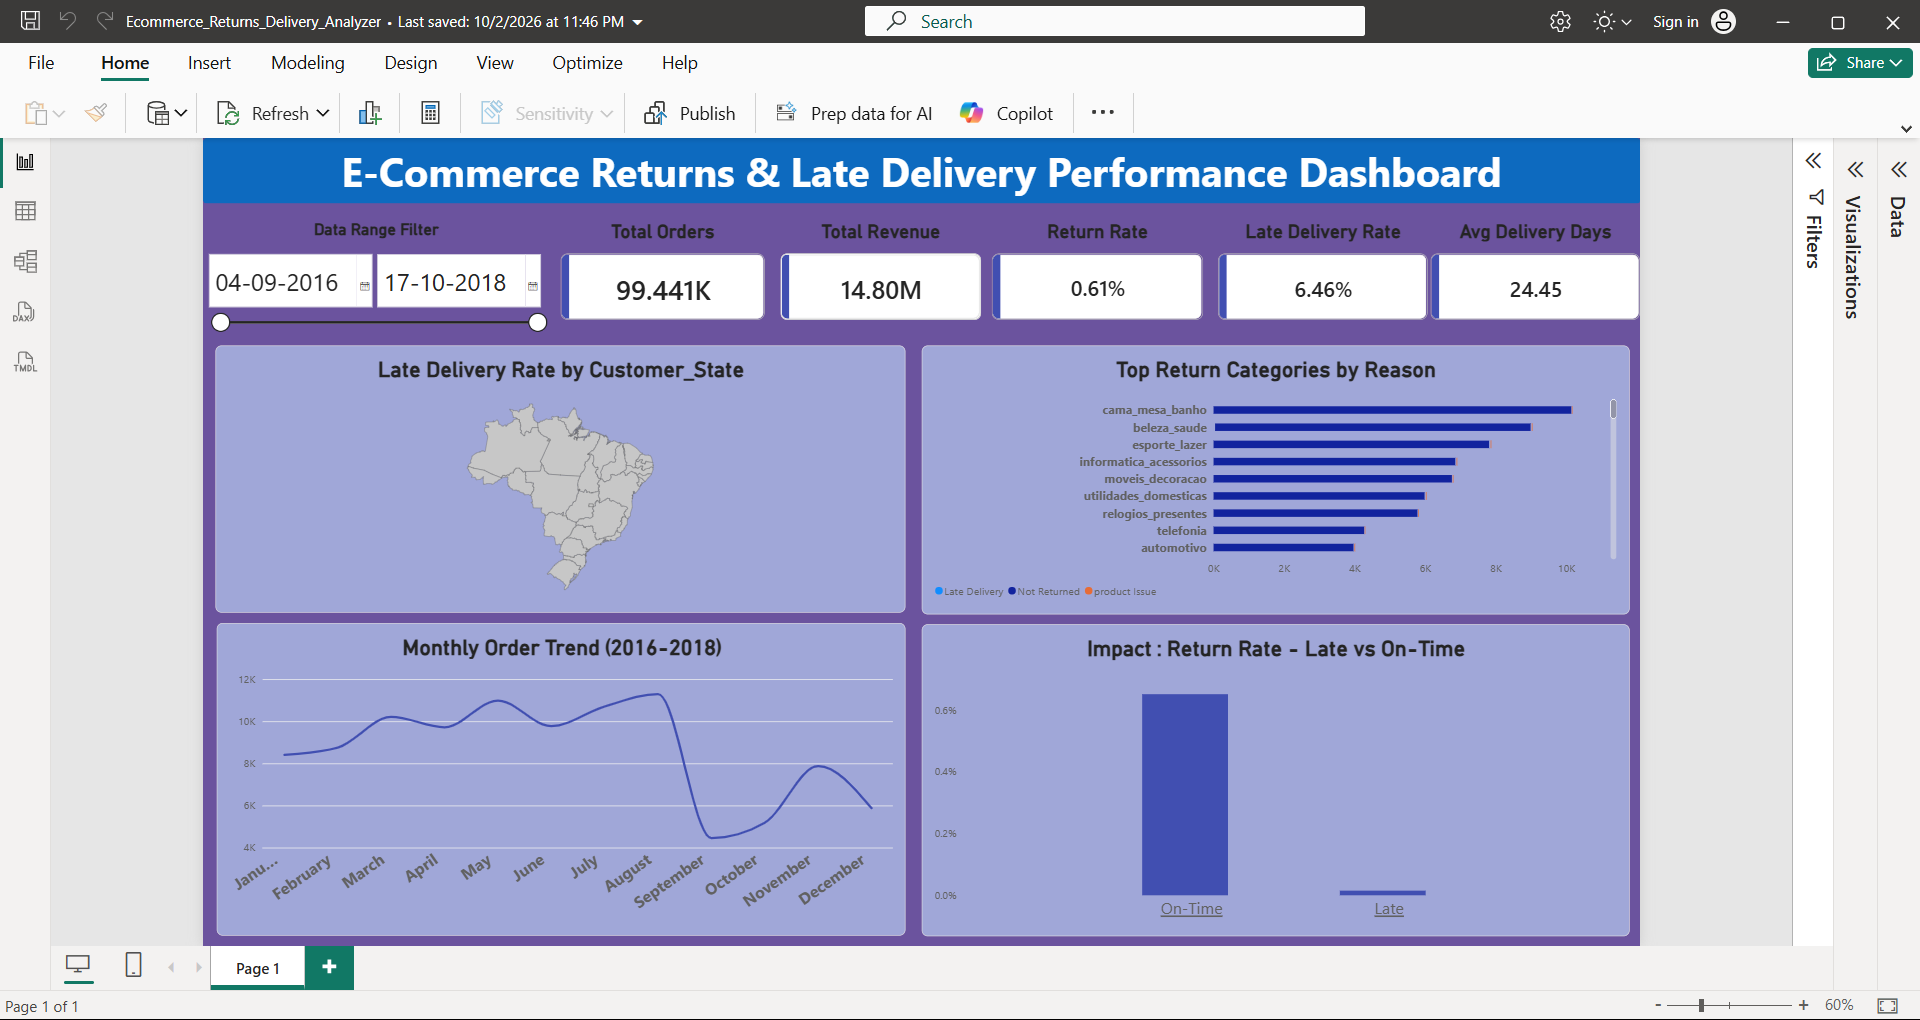

This screenshot's page, from the dashboard's own definition file:
{"tool":"powerbi","page":{"name":"Page 1","canvas":[1920,1080],"ordinal":0},"visuals":[{"type":"cardVisual","fields":{"Data":["CountNonNull(ecommerce_cleaned_final.order_id)"]},"box":[250.5,113.5,212.7,97.4],"z":0},{"type":"clusteredColumnChart","title":"Carrier Late %","fields":{"Category":["ecommerce_cleaned_final.carrier"],"Y":["Avg(ecommerce_cleaned_final.is_late)"]},"box":[14.4,225.4,722.9,387.6],"z":1000},{"type":"clusteredBarChart","title":"Return by Category","fields":{"Category":["ecommerce_cleaned_final.product_category"],"Y":["Sum(ecommerce_cleaned_final.return_flag)"]},"box":[1402.6,225.4,503,387.6],"z":2000},{"type":"clusteredBarChart","title":"Region Performance- Late %","fields":{"Category":["ecommerce_cleaned_final.region"],"Y":["Avg(ecommerce_cleaned_final.is_late)"]},"box":[14.4,629.2,658,402],"z":3000},{"type":"barChart","title":"Return Reason by Product Category","fields":{"Category":["ecommerce_cleaned_final.product_category"],"Series":["ecommerce_cleaned_final.return_reason"],"Y":["Sum(ecommerce_cleaned_final.return_flag)"]},"box":[683.3,627.4,553.5,402],"z":4000},{"type":"cardVisual","fields":{"Data":["ecommerce_cleaned_final.Total Revenue"]},"box":[480.9,111.9,229,97.4],"z":5000},{"type":"cardVisual","fields":{"Data":["ecommerce_cleaned_final.Revenue Lost"]},"box":[1319.1,106.9,227.1,103.5],"z":6000},{"type":"cardVisual","fields":{"Data":["ecommerce_cleaned_final.Late Delivery Rate"]},"box":[738,110.2,302.9,97.4],"z":7000},{"type":"cardVisual","fields":{"Data":["ecommerce_cleaned_final.Return Rate"]},"box":[1053.6,110.2,245.5,100.2],"z":8000},{"type":"cardVisual","fields":{"Data":["Avg(ecommerce_cleaned_final.delivery_delay_days)"]},"box":[1566.2,106.9,339,103.5],"z":9000},{"type":"lineChart","title":"Trend over Time - Late Delivery% (Jan 2017-Jul 2018)","fields":{"Category":["ecommerce_cleaned_final.order_date.Variation.Date Hierarchy.Year","ecommerce_cleaned_final.order_date.Variation.Date Hierarchy.Month"],"Y":["Avg(ecommerce_cleaned_final.is_late)"]},"box":[1256.6,627.4,649,402],"z":10000},{"type":"clusteredColumnChart","title":"Late Delivery vs Return Rate","fields":{"Category":["ecommerce_cleaned_final.is_late"],"Y":["Avg(ecommerce_cleaned_final.return_flag)"]},"box":[757.2,225.4,627.4,387.6],"z":11000},{"type":"slicer","fields":{"Values":["ecommerce_cleaned_final.order_date"]},"box":[14.4,117.2,236.2,93.7],"z":12000},{"type":"textbox","title":"E-Commerce Returns  &  Late Delivery Analyzer","box":[14.4,0,1905.6,90.1],"z":13000},{"type":"slicer","fields":{"Values":["ecommerce_cleaned_final.region"]},"box":[14.4,629.2,119,64.9],"z":13001}]}

Visuals, with their boxes on the page's 1920x1080 design canvas (x1, y1, x2, y2). These are canvas units, not pixel positions in the 1920x1020 screenshot, which may show the page scaled, cropped or inside an application window:
cardVisual - CountNonNull(ecommerce_cleaned_final.order_id): detection(250, 114, 463, 211)
"Carrier Late %" clusteredColumnChart: detection(14, 225, 737, 613)
"Return by Category" clusteredBarChart: detection(1403, 225, 1906, 613)
"Region Performance- Late %" clusteredBarChart: detection(14, 629, 672, 1031)
"Return Reason by Product Category" barChart: detection(683, 627, 1237, 1029)
cardVisual - ecommerce_cleaned_final.Total Revenue: detection(481, 112, 710, 209)
cardVisual - ecommerce_cleaned_final.Revenue Lost: detection(1319, 107, 1546, 210)
cardVisual - ecommerce_cleaned_final.Late Delivery Rate: detection(738, 110, 1041, 208)
cardVisual - ecommerce_cleaned_final.Return Rate: detection(1054, 110, 1299, 210)
cardVisual - Avg(ecommerce_cleaned_final.delivery_delay_days): detection(1566, 107, 1905, 210)
"Trend over Time - Late Delivery% (Jan 2017-Jul 2018)" lineChart: detection(1257, 627, 1906, 1029)
"Late Delivery vs Return Rate" clusteredColumnChart: detection(757, 225, 1385, 613)
slicer - ecommerce_cleaned_final.order_date: detection(14, 117, 251, 211)
"E-Commerce Returns  &  Late Delivery Analyzer" textbox: detection(14, 0, 1920, 90)
slicer - ecommerce_cleaned_final.region: detection(14, 629, 133, 694)
